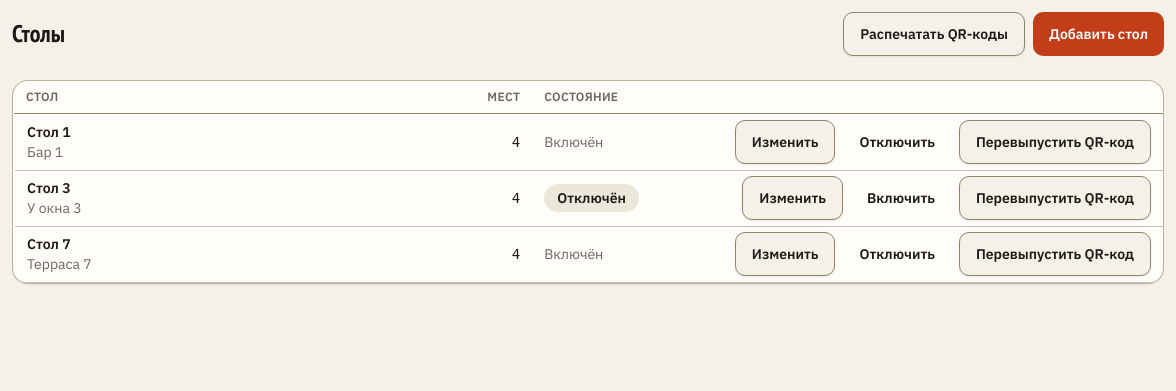
Test case: TablesTable › sends only what an edit changed and closes the row on what came back
Step 1. Click the button "Изменить" in the row of "Стол 7" → click(785, 254), box [735,232,836,276]
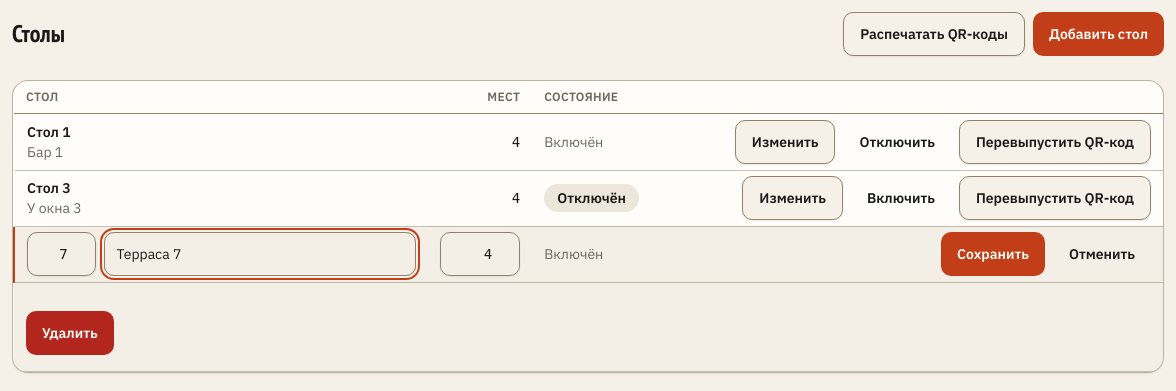
Step 2. Replace the text in the field named "Название" with "Терраса у окна" → (260, 254), box [104,232,416,276]
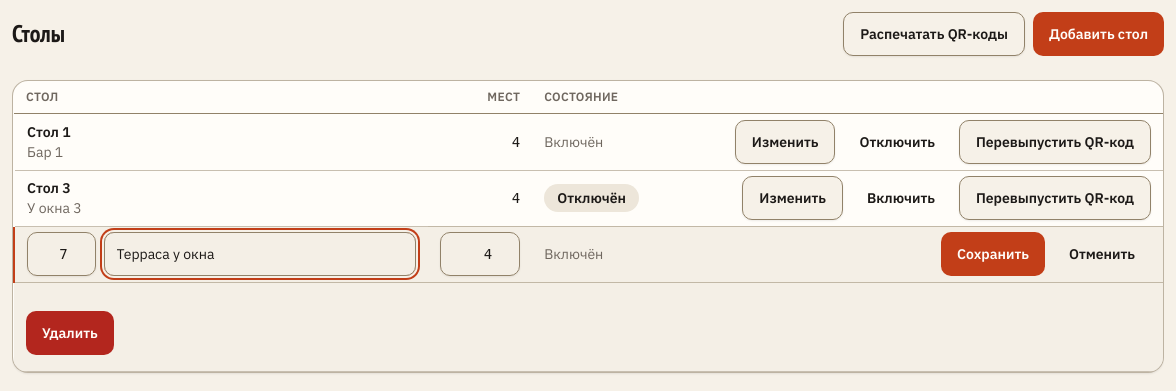
Step 3. Click the button "Сохранить" → click(993, 254), box [941,232,1045,276]
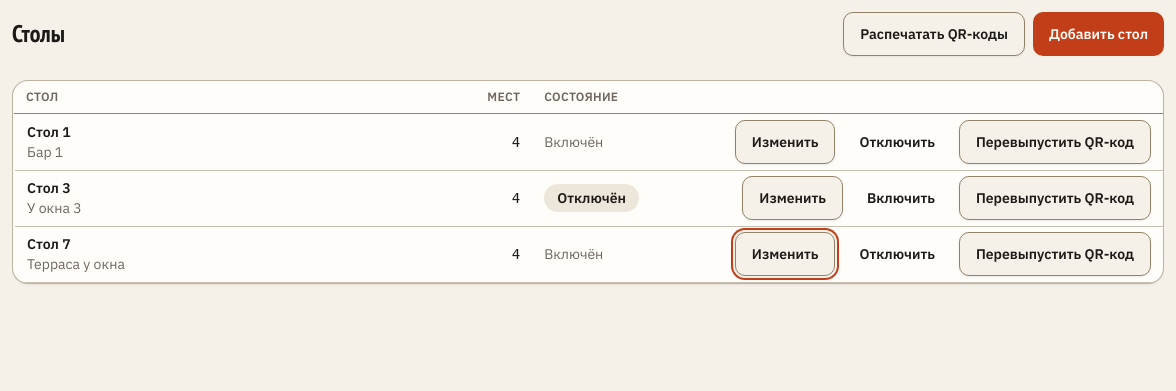
Expected: the text "Терраса у окна" is shown, [27,255,125,273]
